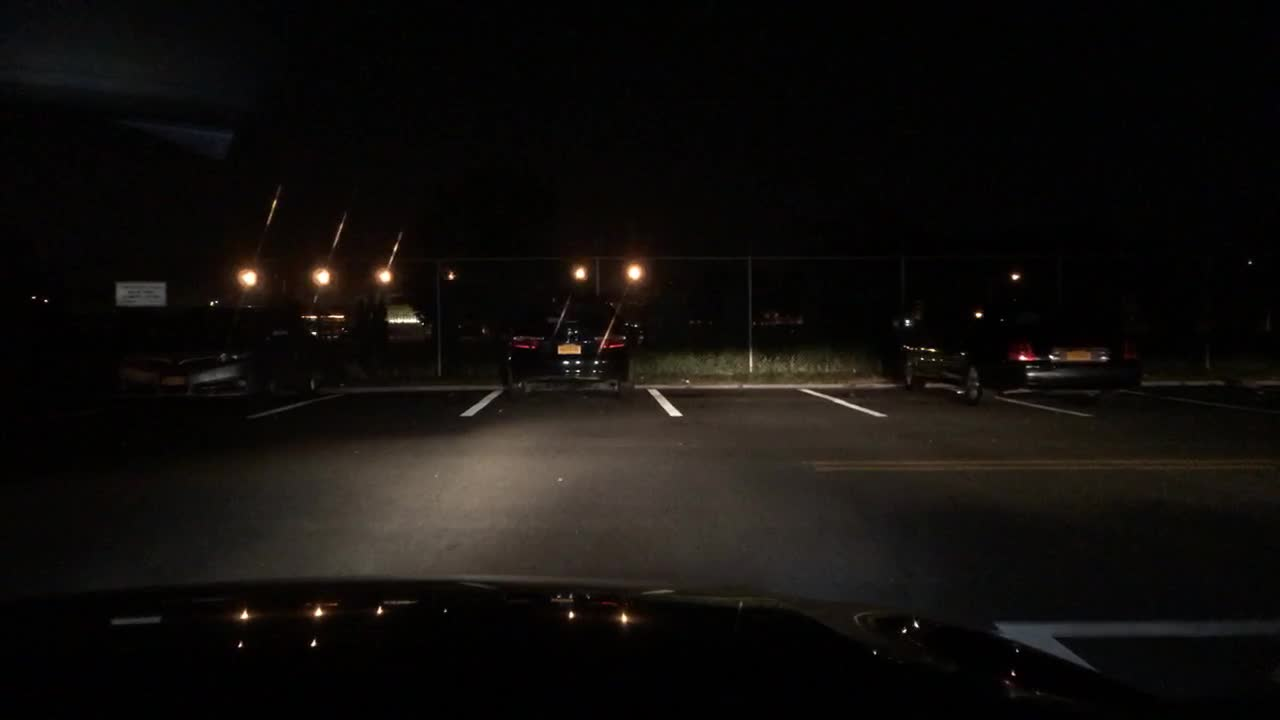car: (899, 267, 1141, 405), (119, 301, 299, 429), (504, 289, 639, 402), (298, 290, 435, 382), (750, 306, 804, 328)
traffic sign: (113, 280, 166, 305)
